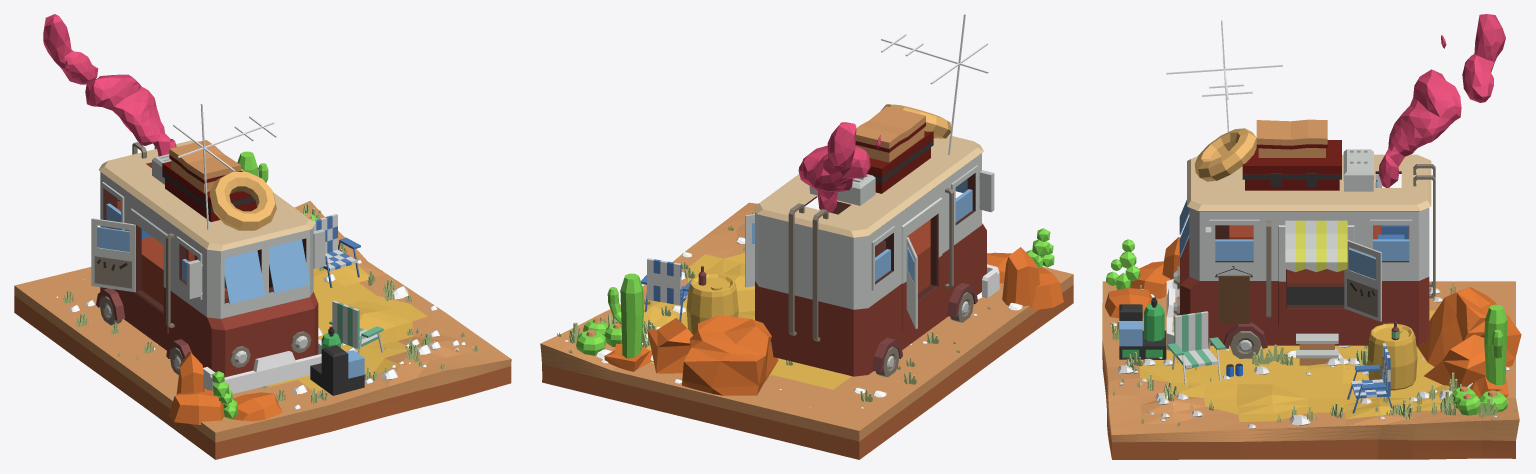
Rendered from car_house.glb.
3 renders of one model, left to right at view 1: azimuth 30°, elevation 25°; view 2: azimuth 150°, elevation 25°; view 3: azimuth 270°, elevation 25°, orthographic. The views are drawn at different scales.
Parts seen in each view (by area): view 1: Cube.037_Material.004_0, Cube.001_White_0, Cube.001_red1_0, Cube_Material.016_0, Cube.001_brightYeloww_0, Cube.037_Material.006_0, Mball.007_Material.012_0, Cube_Material.004_0, Cube.001_Material.026_0, Cube.008_orange_0, Torus_Material.008_0, Cube.003__0 (+15 smaller); view 2: Cube.001_White_0, Cube.037_Material.004_0, Cube.001_red1_0, Cube.008_orange_0, Cube_Material.016_0, Cube.001_brightYeloww_0, Cube_Material.004_0, Cube.037_Material.006_0, Mball.007_Material.012_0, Cylinder.001_Material.027_0, Cube.011_brown_0, Cube.007_Material.004_0 (+12 smaller); view 3: Cube.037_Material.006_0, Cube.001_White_0, Cube.037_Material.004_0, Cube.001_red1_0, Cube.008_orange_0, Cube_Material.016_0, Cube.001_brightYeloww_0, Mball.007_Material.012_0, Cube_Material.004_0, Cube.006_Material.003_0, Cube.001_Material.026_0, Cylinder.001_Material.027_0 (+25 smaller).
Part boxes in pixels (left/top/right/bottom): Cube.037_Material.004_0: left=14, top=201, right=511, bottom=432; Cube.001_White_0: left=91, top=154, right=325, bottom=368; Cube.001_red1_0: left=100, top=287, right=318, bottom=377; Cube_Material.016_0: left=14, top=295, right=511, bottom=459; Cube.001_brightYeloww_0: left=99, top=140, right=315, bottom=251; Cube.037_Material.006_0: left=268, top=263, right=427, bottom=391; Mball.007_Material.012_0: left=43, top=14, right=176, bottom=156; Cube_Material.004_0: left=14, top=286, right=511, bottom=442; Cube.001_Material.026_0: left=97, top=203, right=309, bottom=304; Cube.008_orange_0: left=169, top=352, right=282, bottom=424; Torus_Material.008_0: left=209, top=172, right=276, bottom=230; Cube.003__0: left=203, top=339, right=321, bottom=393; Cube.001_White_0: left=745, top=153, right=994, bottom=368; Cube.037_Material.004_0: left=540, top=202, right=1073, bottom=430; Cube.001_red1_0: left=755, top=223, right=986, bottom=376; Cube.008_orange_0: left=604, top=247, right=1063, bottom=395; Cube_Material.016_0: left=542, top=270, right=1073, bottom=459; Cube.001_brightYeloww_0: left=753, top=135, right=983, bottom=237; Cube_Material.004_0: left=540, top=274, right=1073, bottom=441; Cube.037_Material.006_0: left=643, top=253, right=850, bottom=389; Mball.007_Material.012_0: left=798, top=122, right=880, bottom=212; Cylinder.001_Material.027_0: left=576, top=273, right=643, bottom=358; Cube.011_brown_0: left=788, top=188, right=953, bottom=341; Cube.007_Material.004_0: left=855, top=106, right=925, bottom=162; Cube.037_Material.006_0: left=1139, top=310, right=1455, bottom=421; Cube.001_White_0: left=1173, top=149, right=1429, bottom=351; Cube.037_Material.004_0: left=1102, top=281, right=1519, bottom=434; Cube.001_red1_0: left=1180, top=237, right=1429, bottom=345; Cube.008_orange_0: left=1105, top=237, right=1521, bottom=398; Cube_Material.016_0: left=1102, top=351, right=1515, bottom=459; Cube.001_brightYeloww_0: left=1187, top=154, right=1431, bottom=211; Mball.007_Material.012_0: left=1379, top=14, right=1505, bottom=187; Cube_Material.004_0: left=1102, top=303, right=1519, bottom=442; Cube.006_Material.003_0: left=1242, top=140, right=1341, bottom=190; Cube.001_Material.026_0: left=1179, top=181, right=1409, bottom=279; Cylinder.001_Material.027_0: left=1452, top=304, right=1507, bottom=415.
Bounding box in the file's own units: 2.24 × 2.09 × 2.5.
